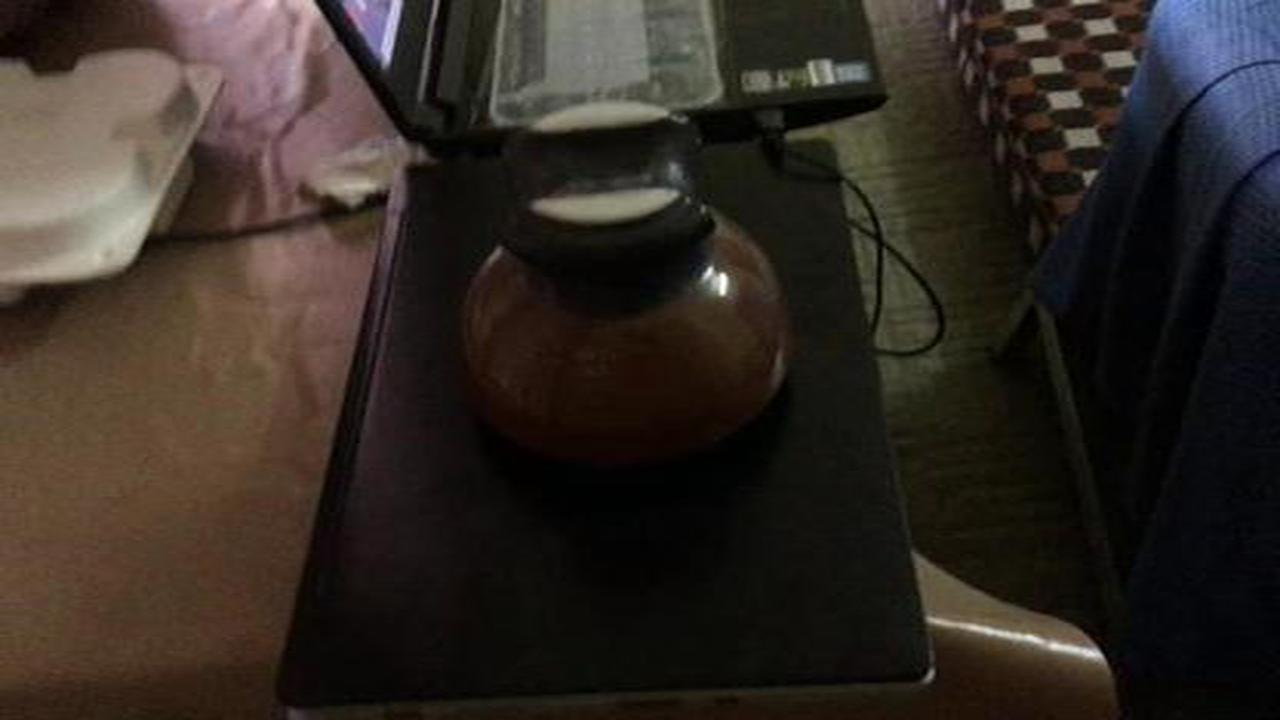insulator_pin: (434, 94, 810, 487)
